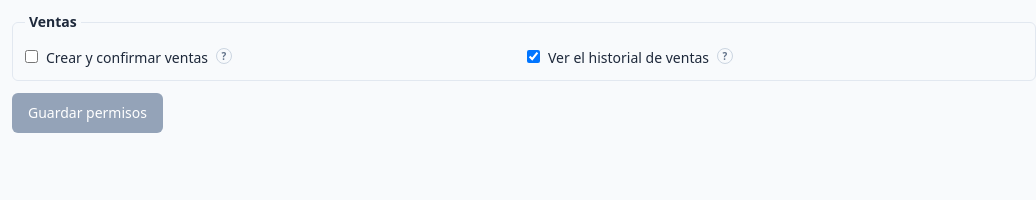
Test: RolePermissionsEditor › PUTs the full replacement set and disables Save until something changes
Expected: the button "Guardar permisos" is disabled, [12, 93, 163, 133]
Click the checkbox labelled "Crear y confirmar ventas". click: (32, 56)
box: [25, 50, 38, 63]
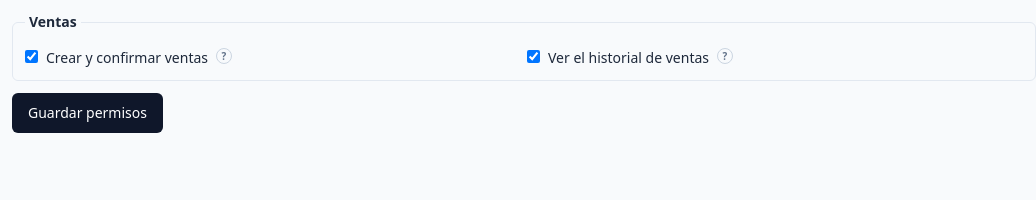
Expected: the button "Guardar permisos" is enabled
Click the button "Guardar permisos". click: (88, 113)
box: [12, 93, 163, 133]
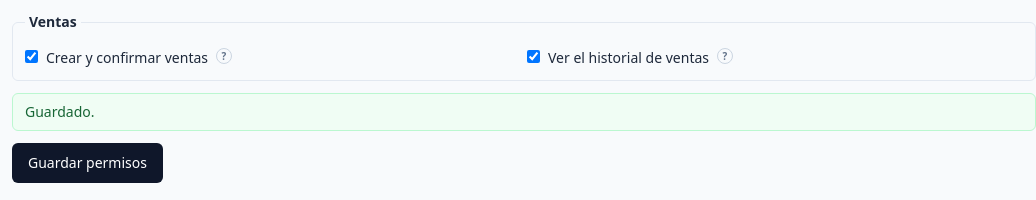
Expected: the text "Guardado." is shown, [25, 102, 94, 121]
